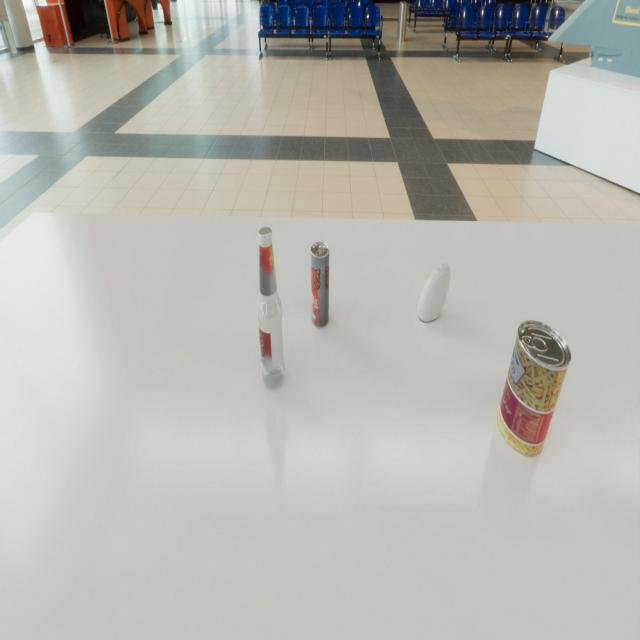Bottle: (256, 223, 285, 394)
Potato_sticks: (502, 315, 571, 462)
Rita_zero_sugar: (309, 242, 330, 328)
Salt: (418, 258, 449, 324)
